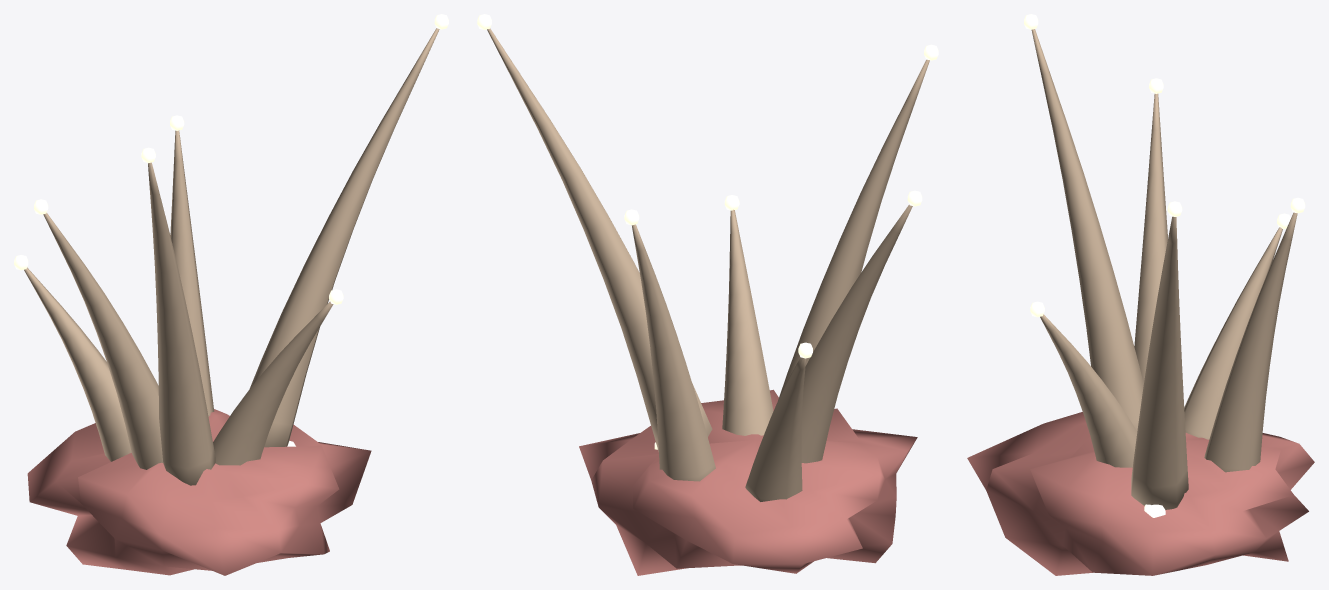
Rendered from VirulenceSpike.fbx.
3 views of the same model, side by side, from view 1: azimuth 30°, elevation 25°; view 2: azimuth 150°, elevation 25°; view 3: azimuth 270°, elevation 25° (orthographic). The views are drawn at different scales.
Parts seen in each view (by area): view 1: VirulenceSpike.001, VirulenceFlesh, VirulenceGlow; view 2: VirulenceSpike.001, VirulenceFlesh, VirulenceGlow; view 3: VirulenceSpike.001, VirulenceFlesh, VirulenceGlow.
Part boxes in pixels (<box>): VirulenceSpike.001: <box>24,28,439,485</box>; VirulenceFlesh: <box>27,409,371,575</box>; VirulenceGlow: <box>14,14,448,446</box>; VirulenceSpike.001: <box>487,28,929,501</box>; VirulenceFlesh: <box>579,389,917,575</box>; VirulenceGlow: <box>477,14,938,449</box>; VirulenceSpike.001: <box>1031,29,1297,509</box>; VirulenceFlesh: <box>967,412,1314,575</box>; VirulenceGlow: <box>1024,14,1305,517</box>.
Size of the model in its own units: 1.47 by 1.55 by 1.03.
